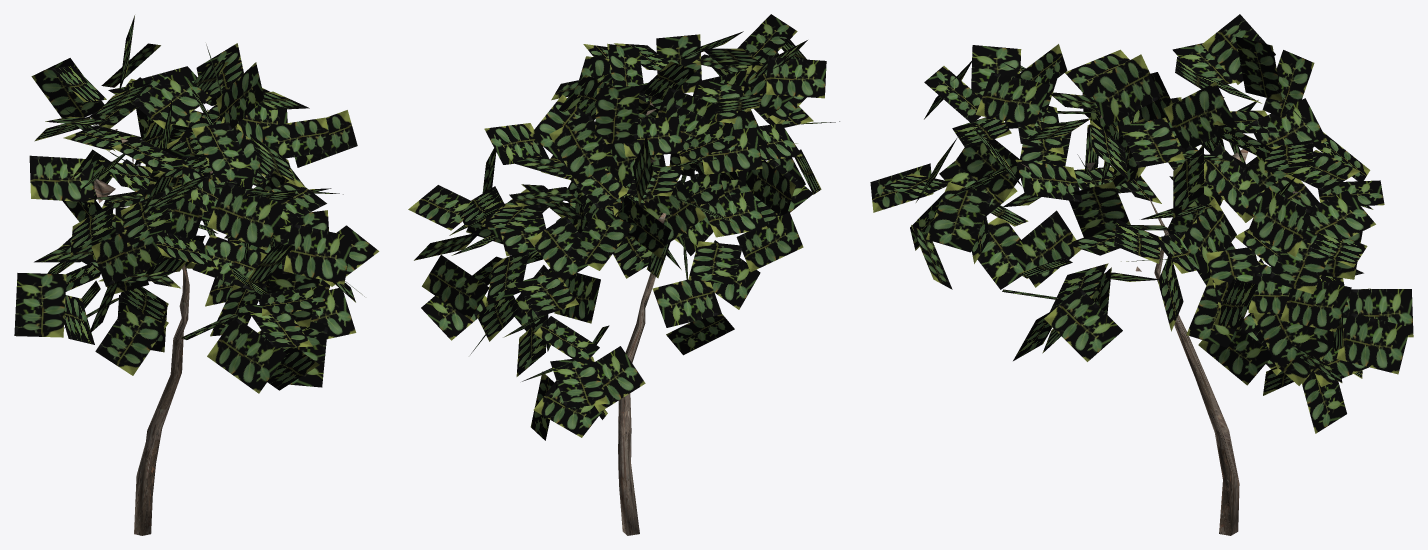
File: tree-compact-01-lod2.glb
The picture shows the model from 3 angles, left to right: view 1: azimuth 30°, elevation 25°; view 2: azimuth 150°, elevation 25°; view 3: azimuth 270°, elevation 25°; orthographic projection. The views are drawn at different scales.
Parts seen in each view (by area): view 1: tree-compact-01_MATERIAL_BATCH; view 2: tree-compact-01_MATERIAL_BATCH; view 3: tree-compact-01_MATERIAL_BATCH.
Part boxes in pixels (x1,y1,x2,y2): tree-compact-01_MATERIAL_BATCH: (14,15,379,535); tree-compact-01_MATERIAL_BATCH: (408,14,839,535); tree-compact-01_MATERIAL_BATCH: (870,14,1413,535).
Size of the model in its own units: 5.58 by 8 by 7.98.
Materials: 3 (3 with a texture image).
